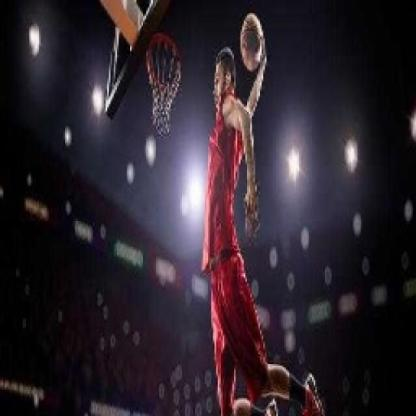basketball: (236, 12, 266, 69)
